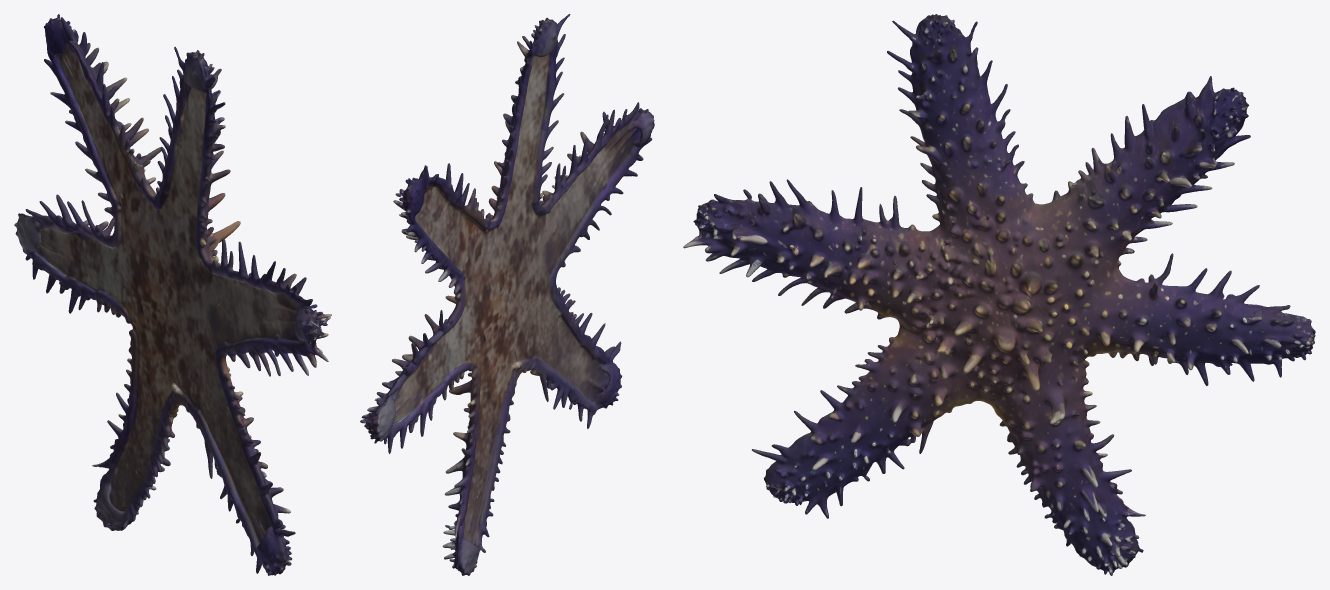
Rendered from star_big_spiny.glb.
The picture shows the model from 3 angles, left to right: view 1: azimuth 30°, elevation 25°; view 2: azimuth 150°, elevation 25°; view 3: azimuth 270°, elevation 25°; orthographic projection. The views are drawn at different scales.
Parts seen in each view (by area): view 1: tripo_node_2a6883da-51bd-4301-b0ed-1d5385cc1012; view 2: tripo_node_2a6883da-51bd-4301-b0ed-1d5385cc1012; view 3: tripo_node_2a6883da-51bd-4301-b0ed-1d5385cc1012.
Boxes of the visible parts, bbox=[...] form: tripo_node_2a6883da-51bd-4301-b0ed-1d5385cc1012: bbox=[14, 14, 331, 575]; tripo_node_2a6883da-51bd-4301-b0ed-1d5385cc1012: bbox=[360, 14, 654, 575]; tripo_node_2a6883da-51bd-4301-b0ed-1d5385cc1012: bbox=[683, 14, 1315, 575].
Bounding box in the file's own units: 0.1798 × 0.9739 × 1.
Materials: 1 (1 with a texture image).
